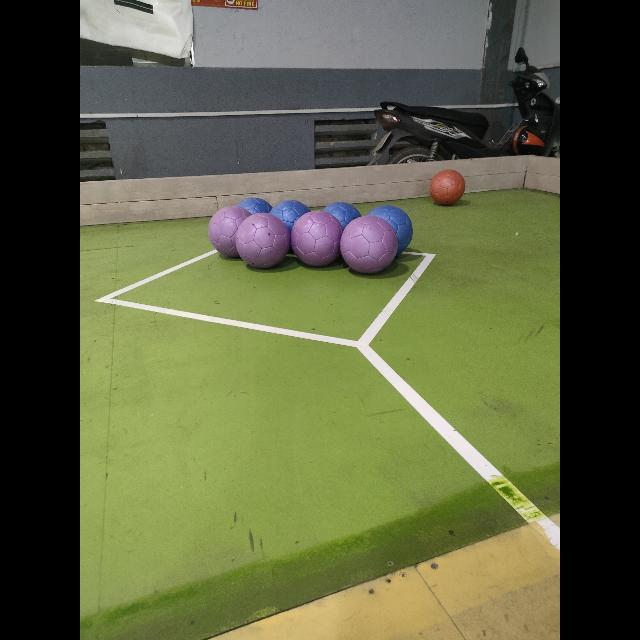B: (367, 206, 413, 254), (272, 200, 310, 230), (324, 202, 361, 228), (238, 197, 272, 213)
P: (340, 215, 398, 272), (236, 212, 290, 268), (291, 210, 343, 266), (206, 202, 254, 258)
R: (430, 170, 466, 204)
